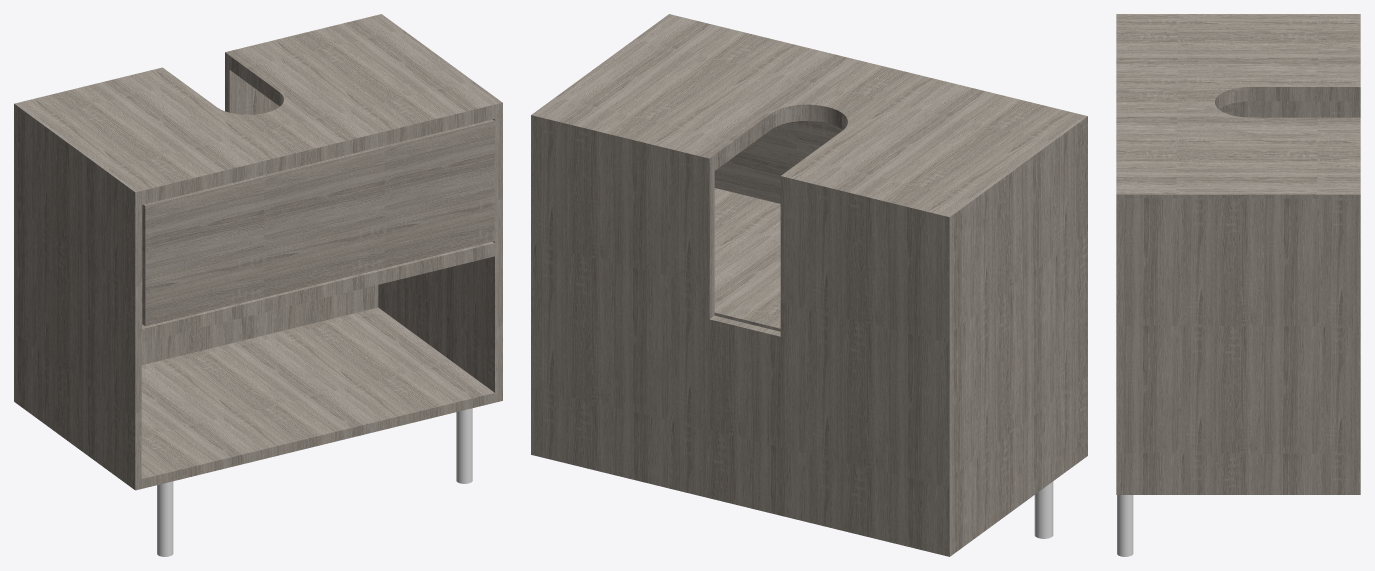
Rendered from Waschtischunterbau.glb.
3 renders of one model, left to right at view 1: azimuth 30°, elevation 25°; view 2: azimuth 150°, elevation 25°; view 3: azimuth 270°, elevation 25°, orthographic. The views are drawn at different scales.
Parts seen in each view (by area): view 1: Mesh1 Component_1 G_19_Waschtischunterbau_V3_dwg1 Model, Mesh2 Component_2 G_19_Waschtischunterbau_V3_dwg1 Model, Mesh4 Component_4 G_19_Waschtischunterbau_V3_dwg1 Model, Mesh3 Component_3 G_19_Waschtischunterbau_V3_dwg1 Model; view 2: Mesh1 Component_1 G_19_Waschtischunterbau_V3_dwg1 Model, Mesh2 Component_2 G_19_Waschtischunterbau_V3_dwg1 Model, Mesh3 Component_3 G_19_Waschtischunterbau_V3_dwg1 Model; view 3: Mesh1 Component_1 G_19_Waschtischunterbau_V3_dwg1 Model, Mesh4 Component_4 G_19_Waschtischunterbau_V3_dwg1 Model.
Boxes of the visible parts, bbox=[...] form: Mesh1 Component_1 G_19_Waschtischunterbau_V3_dwg1 Model: bbox=[14, 14, 502, 490]; Mesh2 Component_2 G_19_Waschtischunterbau_V3_dwg1 Model: bbox=[142, 119, 494, 326]; Mesh4 Component_4 G_19_Waschtischunterbau_V3_dwg1 Model: bbox=[456, 408, 472, 483]; Mesh3 Component_3 G_19_Waschtischunterbau_V3_dwg1 Model: bbox=[157, 481, 173, 556]; Mesh1 Component_1 G_19_Waschtischunterbau_V3_dwg1 Model: bbox=[531, 14, 1087, 556]; Mesh2 Component_2 G_19_Waschtischunterbau_V3_dwg1 Model: bbox=[714, 121, 842, 203]; Mesh3 Component_3 G_19_Waschtischunterbau_V3_dwg1 Model: bbox=[1034, 481, 1053, 538]; Mesh1 Component_1 G_19_Waschtischunterbau_V3_dwg1 Model: bbox=[1116, 14, 1360, 494]; Mesh4 Component_4 G_19_Waschtischunterbau_V3_dwg1 Model: bbox=[1117, 495, 1133, 556].
Bounding box in the file's own units: 77.4 × 75 × 44.22.
3 materials, 2 textured.
